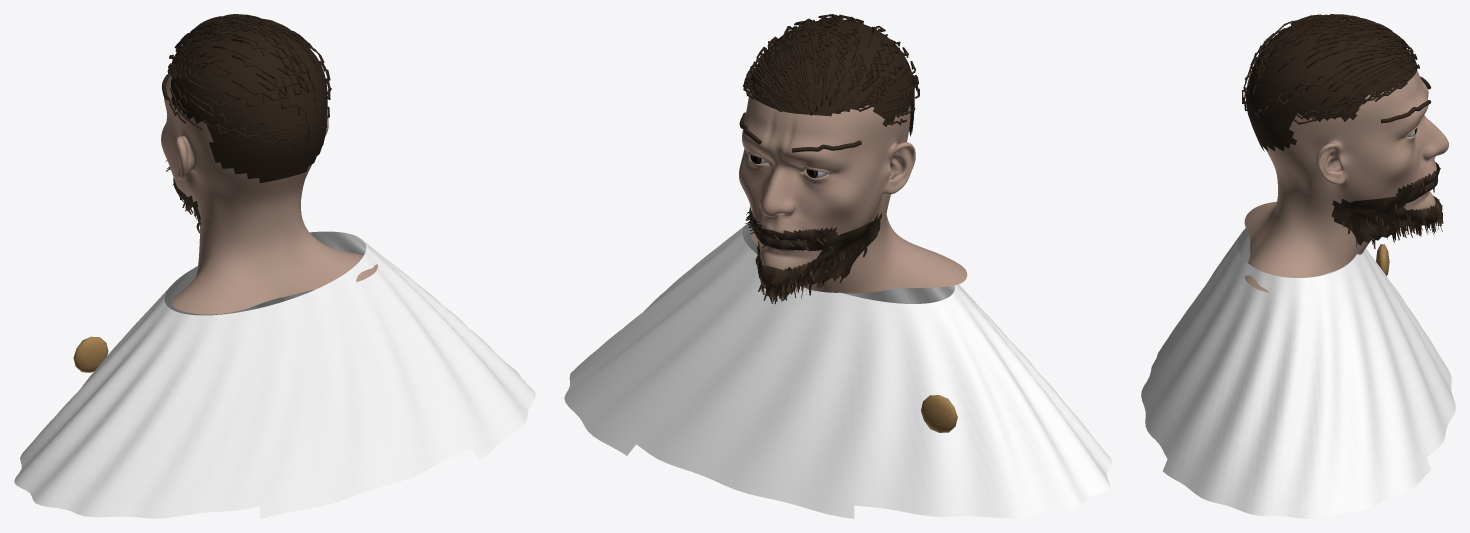
Rendered from envoy_006.glb.
3 views of the same model, side by side, from view 1: azimuth 30°, elevation 25°; view 2: azimuth 150°, elevation 25°; view 3: azimuth 270°, elevation 25° (orthographic). The views are drawn at different scales.
Visible parts, largest first — view 1: Folded shoulder mantle, Envoy 006 body, Envoy 006 fitted scalp, Shoulder clasp; view 2: Folded shoulder mantle, Envoy 006 body, Envoy 006 fitted scalp, Hades beard hair shell, Hades beard hair cards, Shoulder clasp; view 3: Folded shoulder mantle, Envoy 006 body, Envoy 006 fitted scalp, Hades beard hair shell, Hades beard hair cards.
Boxes of the visible parts, x1,y1,x2,y2 form: Folded shoulder mantle: (14,231,535,518); Envoy 006 body: (161,74,377,314); Envoy 006 fitted scalp: (171,19,327,182); Shoulder clasp: (73,336,108,372); Folded shoulder mantle: (564,223,1112,518); Envoy 006 body: (739,93,967,293); Envoy 006 fitted scalp: (749,19,914,136); Hades beard hair shell: (749,206,881,289); Hades beard hair cards: (745,211,867,304); Shoulder clasp: (921,395,957,432); Folded shoulder mantle: (1141,228,1455,518); Envoy 006 body: (1244,70,1448,292); Envoy 006 fitted scalp: (1246,18,1416,151); Hades beard hair shell: (1331,162,1441,245); Hades beard hair cards: (1342,168,1443,249).
Size of the model in its own units: 0.3152 by 0.2465 by 0.1831.
